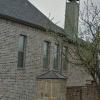Chimney: (62, 2, 86, 41)
